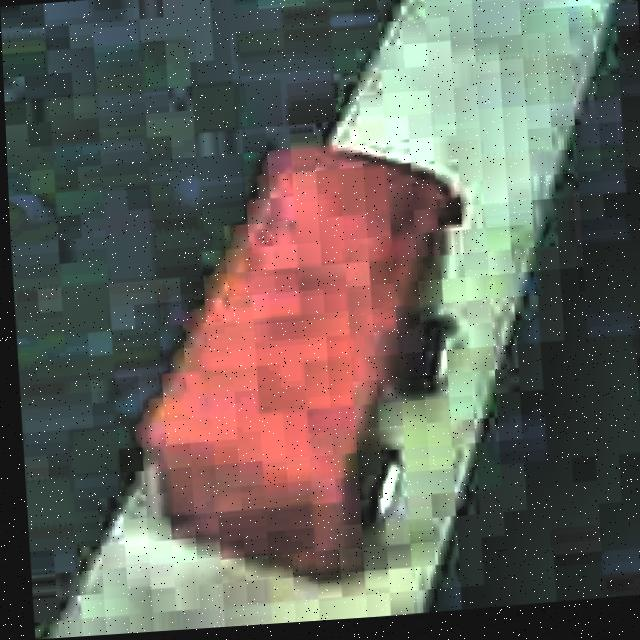bus: (120, 128, 482, 599)
